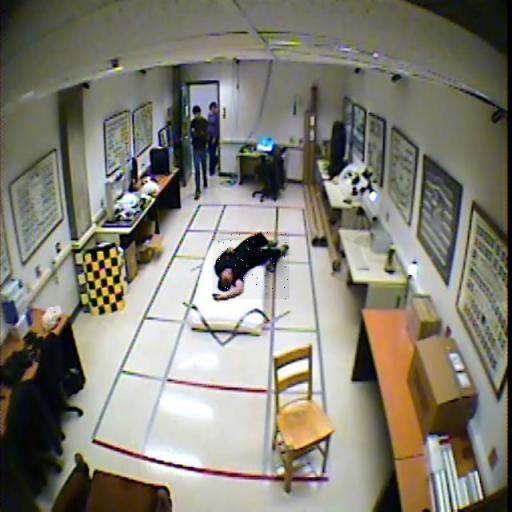Fall: (213, 233, 290, 300)
